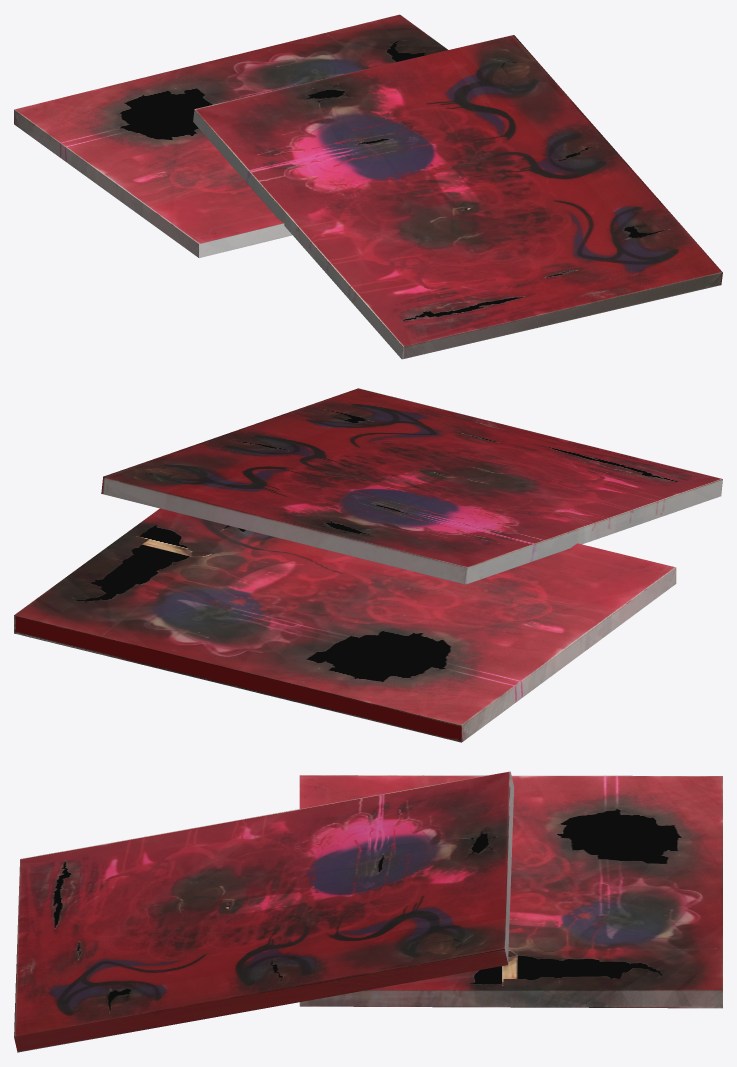
Rendered from FireBilds1.glb.
The picture shows the model from 3 angles, top to bottom: view 1: azimuth 30°, elevation 25°; view 2: azimuth 150°, elevation 25°; view 3: azimuth 270°, elevation 25°; orthographic projection. The views are drawn at different scales.
Visible parts, largest first — view 1: Bild3, Bild1_Retopo; view 2: Bild1_Retopo, Bild3; view 3: Bild3, Bild1_Retopo.
Part boxes in pixels (x1,y1,x2,y2): Bild3: (193,35,722,359); Bild1_Retopo: (14,14,447,257); Bild1_Retopo: (14,508,676,742); Bild3: (101,388,722,584); Bild3: (14,771,514,1052); Bild1_Retopo: (299,775,722,1008).
Bounding box in the file's own units: 78.28 × 17.38 × 104.
Materials: 2 (2 with a texture image).
